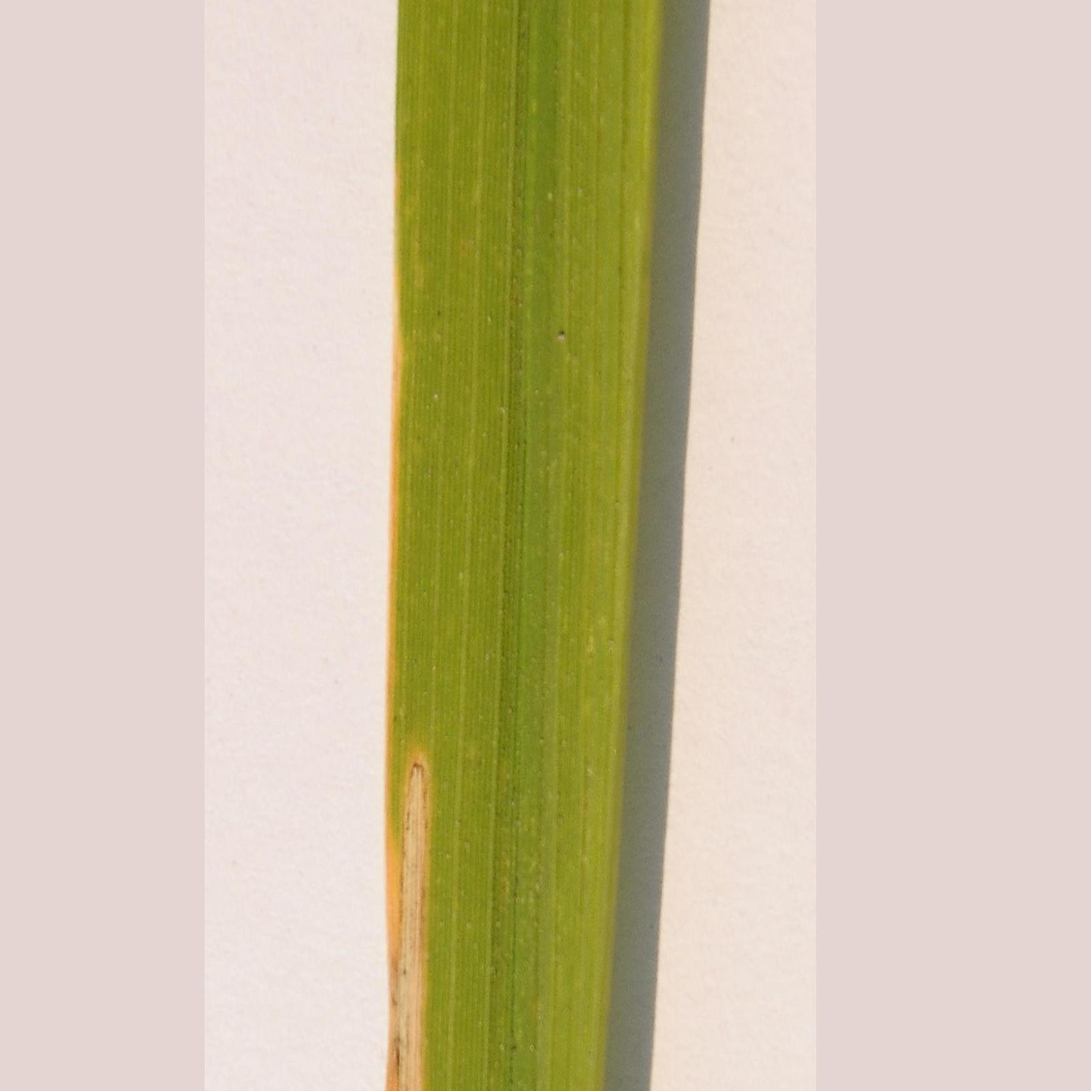BLS: (386, 164, 432, 1090)
LEAF: (386, 0, 663, 1090)
